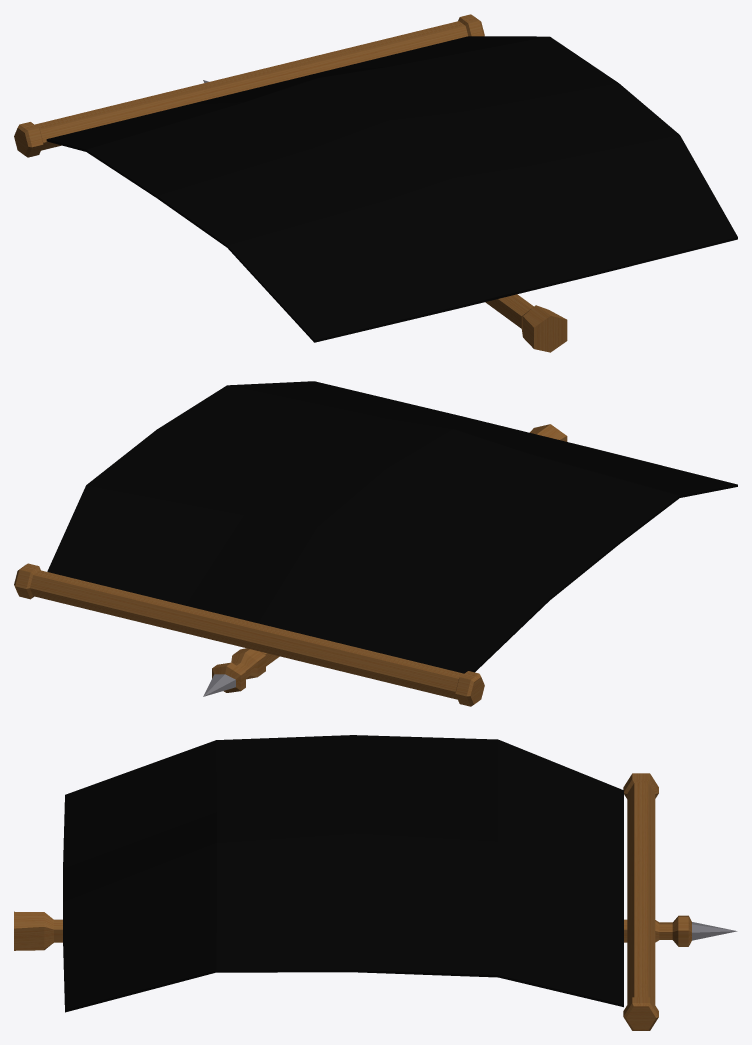
The model's file is sail_c_1.fbx.
The picture shows the model from 3 angles, top to bottom: view 1: azimuth 30°, elevation 25°; view 2: azimuth 150°, elevation 25°; view 3: azimuth 270°, elevation 25°; orthographic projection. The views are drawn at different scales.
Parts seen in each view (by area): view 1: Cube.100; view 2: Cube.100; view 3: Cube.100.
Boxes of the visible parts, bbox=[...] form: Cube.100: bbox=[14, 14, 737, 352]; Cube.100: bbox=[14, 381, 737, 706]; Cube.100: bbox=[14, 735, 737, 1030].
Size of the model in its own units: 140 by 32.39 by 182.
